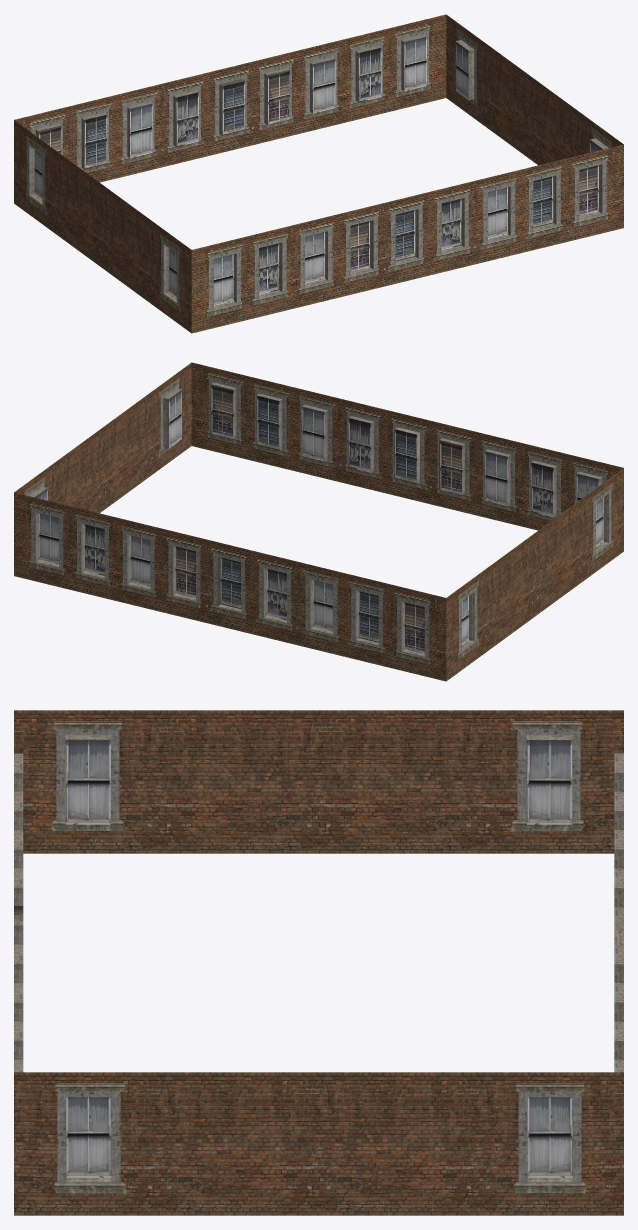
The model's file is Build5_el5_LOD1.fbx.
The picture shows the model from 3 angles, top to bottom: view 1: azimuth 30°, elevation 25°; view 2: azimuth 150°, elevation 25°; view 3: azimuth 270°, elevation 25°; orthographic projection. The views are drawn at different scales.
Parts seen in each view (by area): view 1: polySurface85; view 2: polySurface85; view 3: polySurface85.
Boxes of the visible parts, x1,y1,x2,y2 form: polySurface85: (14,14,623,333); polySurface85: (14,362,623,681); polySurface85: (14,710,623,1215).
Size of the model in its own units: 16.23 by 3 by 11.55.
